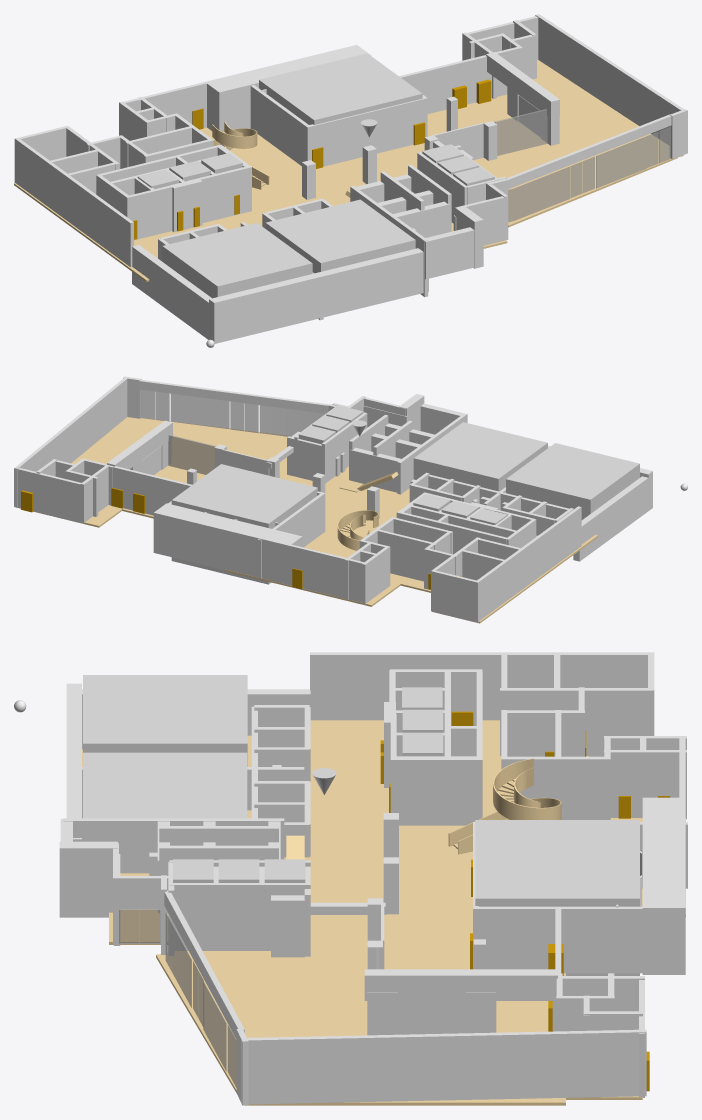
Rendered from basement_ultraSimp_i.glb.
3 views of the same model, one above another, from view 1: azimuth 30°, elevation 25°; view 2: azimuth 150°, elevation 25°; view 3: azimuth 270°, elevation 25° (orthographic). The views are drawn at different scales.
Parts seen in each view (by area): view 1: Wall124, Wall2, interactive_class_B01, interactive_class_B03, interactive_class_B02, Wall12, Wall32, Wall112, Wall125, Wall119, Wall24, Wall (+47 smaller); view 2: Wall24, interactive_class_B01, interactive_class_B03, interactive_class_B02, Wall32, Wall124, Wall12, Wall125, Wall25, Wall, Wall112, Wall13 (+55 smaller); view 3: Wall12, Wall125, interactive_class_B03, Wall32, Wall112, interactive_class_B01, interactive_class_B02, Wall23, Wall24, Wall124, Wall85, Wall72 (+50 smaller).
Part boxes in pixels (bbox=[...]): Wall124: bbox=[357, 77, 683, 180]; Wall2: bbox=[209, 248, 428, 343]; interactive_class_B01: bbox=[162, 223, 312, 298]; interactive_class_B03: bbox=[259, 53, 422, 124]; interactive_class_B02: bbox=[265, 199, 415, 273]; Wall12: bbox=[535, 14, 686, 153]; Wall32: bbox=[14, 137, 133, 266]; Wall112: bbox=[199, 127, 365, 229]; Wall125: bbox=[358, 99, 677, 227]; Wall119: bbox=[306, 96, 427, 166]; Wall24: bbox=[206, 45, 371, 131]; Wall: bbox=[132, 245, 212, 339]; Wall24: bbox=[153, 503, 302, 584]; interactive_class_B01: bbox=[506, 443, 639, 519]; interactive_class_B03: bbox=[171, 464, 317, 584]; interactive_class_B02: bbox=[413, 422, 547, 491]; Wall32: bbox=[475, 506, 581, 622]; Wall124: bbox=[71, 417, 348, 518]; Wall12: bbox=[14, 377, 127, 507]; Wall125: bbox=[106, 418, 308, 483]; Wall25: bbox=[287, 544, 365, 602]; Wall: bbox=[573, 476, 648, 561]; Wall112: bbox=[226, 488, 409, 606]; Wall13: bbox=[14, 468, 82, 523]; Wall12: bbox=[241, 1029, 646, 1104]; Wall125: bbox=[156, 921, 533, 1092]; interactive_class_B03: bbox=[475, 820, 639, 975]; Wall32: bbox=[310, 652, 653, 720]; Wall112: bbox=[284, 796, 685, 916]; interactive_class_B01: bbox=[83, 675, 247, 766]; interactive_class_B02: bbox=[83, 752, 247, 818]; Wall23: bbox=[473, 906, 642, 973]; Wall24: bbox=[642, 797, 685, 974]; Wall124: bbox=[243, 950, 565, 1105]; Wall85: bbox=[169, 882, 310, 950]; Wall72: bbox=[390, 756, 482, 825].
Bounding box in the file's own units: 77.67 × 13.68 × 54.85.
